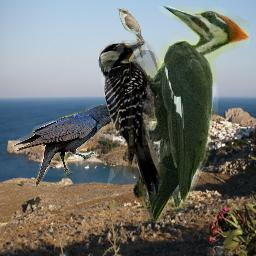Crow: (12, 104, 126, 187)
Cuckoo: (116, 7, 144, 60)
Woodpecker: (139, 6, 250, 223), (97, 40, 176, 202)
